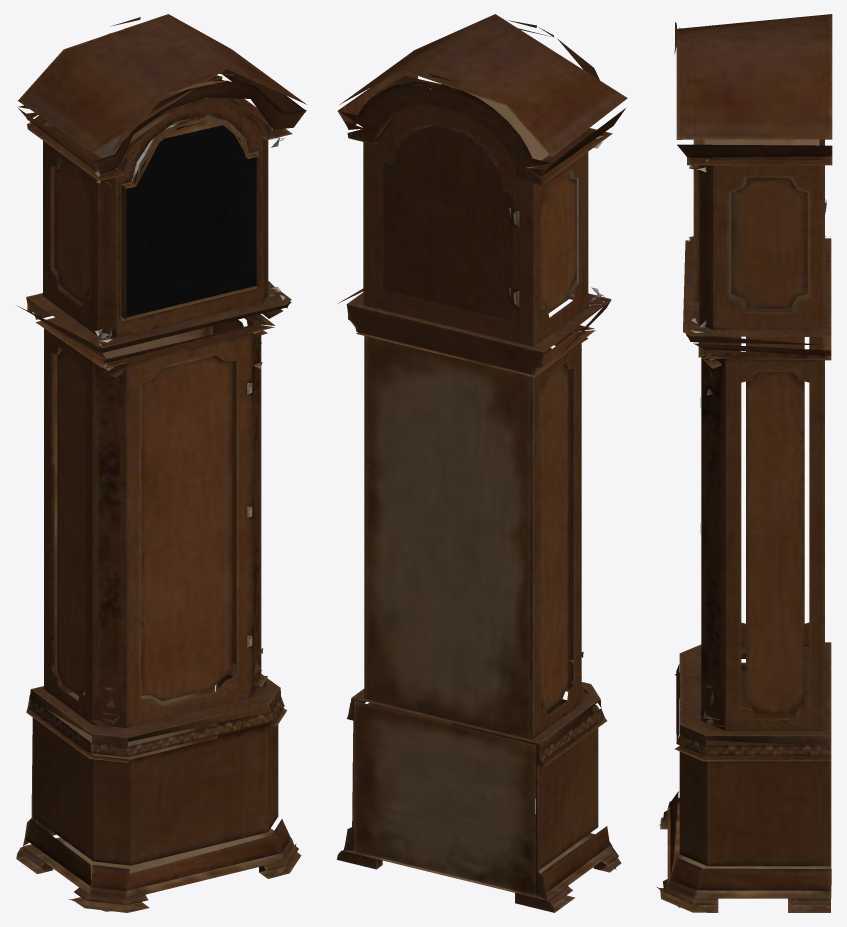
Rendered from ph_vintage_grandfather_clock_01.glb.
The picture shows the model from 3 angles, left to right: view 1: azimuth 30°, elevation 25°; view 2: azimuth 150°, elevation 25°; view 3: azimuth 270°, elevation 25°; orthographic projection. The views are drawn at different scales.
Parts seen in each view (by area): view 1: vintage_grandfather_clock_01_body; view 2: vintage_grandfather_clock_01_body; view 3: vintage_grandfather_clock_01_body.
Boxes of the visible parts, <box> form: vintage_grandfather_clock_01_body: <box>16,14,306,912</box>; vintage_grandfather_clock_01_body: <box>337,14,627,912</box>; vintage_grandfather_clock_01_body: <box>657,14,832,912</box>.
Size of the model in its own units: 0.6463 by 2.2 by 0.4232.
2 materials, 2 textured.
